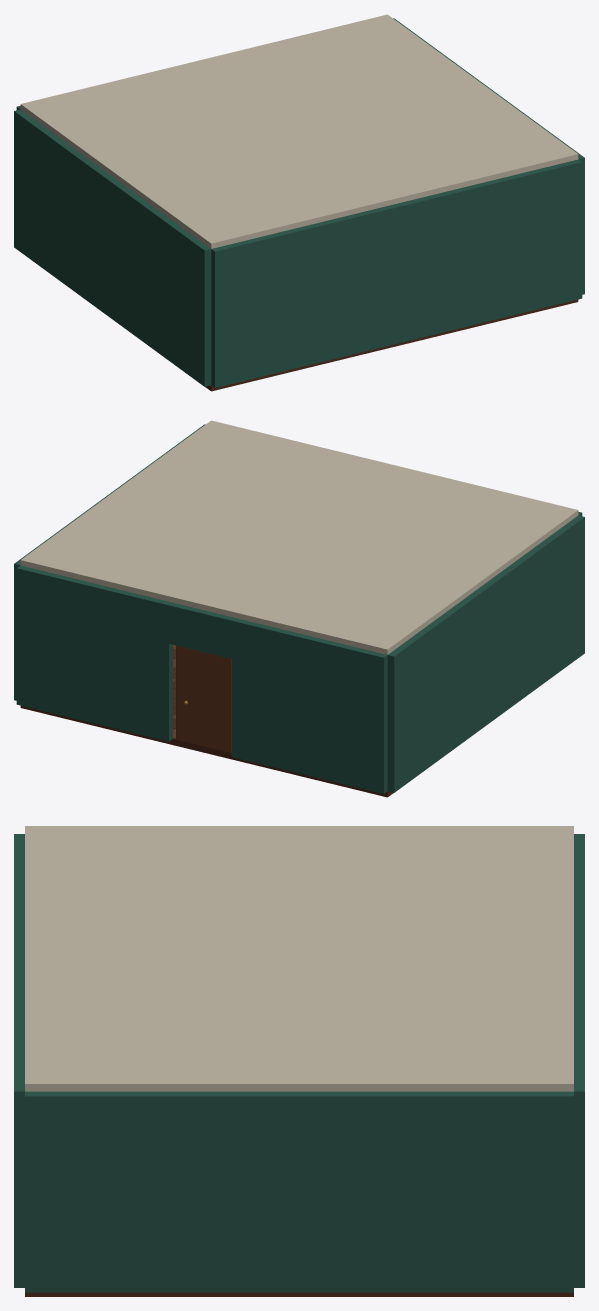
The model's file is humtokeys-music-room.glb.
3 views of the same model, one above another, from view 1: azimuth 30°, elevation 25°; view 2: azimuth 150°, elevation 25°; view 3: azimuth 270°, elevation 25° (orthographic). The views are drawn at different scales.
Visible parts, largest first — view 1: room_ceiling, wall_back, wall_left, room_floor, wall_right; view 2: room_ceiling, wall_left, wall_front_left, wall_front_right, entrance_door, wall_front_header, room_floor, wall_right; view 3: room_ceiling, wall_right, wall_back, wall_front_right, room_floor, wall_front_left.
Part boxes in pixels (bbox=[...]): room_ceiling: bbox=[20, 14, 578, 248]; wall_back: bbox=[211, 159, 582, 387]; wall_left: bbox=[14, 109, 211, 386]; room_floor: bbox=[205, 299, 578, 391]; wall_right: bbox=[393, 18, 584, 294]; room_ceiling: bbox=[20, 420, 578, 654]; wall_left: bbox=[387, 515, 584, 792]; wall_front_left: bbox=[231, 618, 387, 793]; wall_front_right: bbox=[16, 565, 172, 741]; entrance_door: bbox=[176, 645, 231, 753]; wall_front_header: bbox=[169, 602, 234, 658]; room_floor: bbox=[20, 705, 393, 797]; wall_right: bbox=[14, 424, 205, 700]; room_ceiling: bbox=[25, 826, 573, 1091]; wall_right: bbox=[25, 1091, 573, 1292]; wall_back: bbox=[14, 834, 24, 1287]; wall_front_right: bbox=[574, 984, 584, 1287]; room_floor: bbox=[25, 1292, 573, 1296]; wall_front_left: bbox=[574, 834, 584, 940].
Size of what is drawn, in the model's own units: 10.36 by 3.85 by 9.36.
